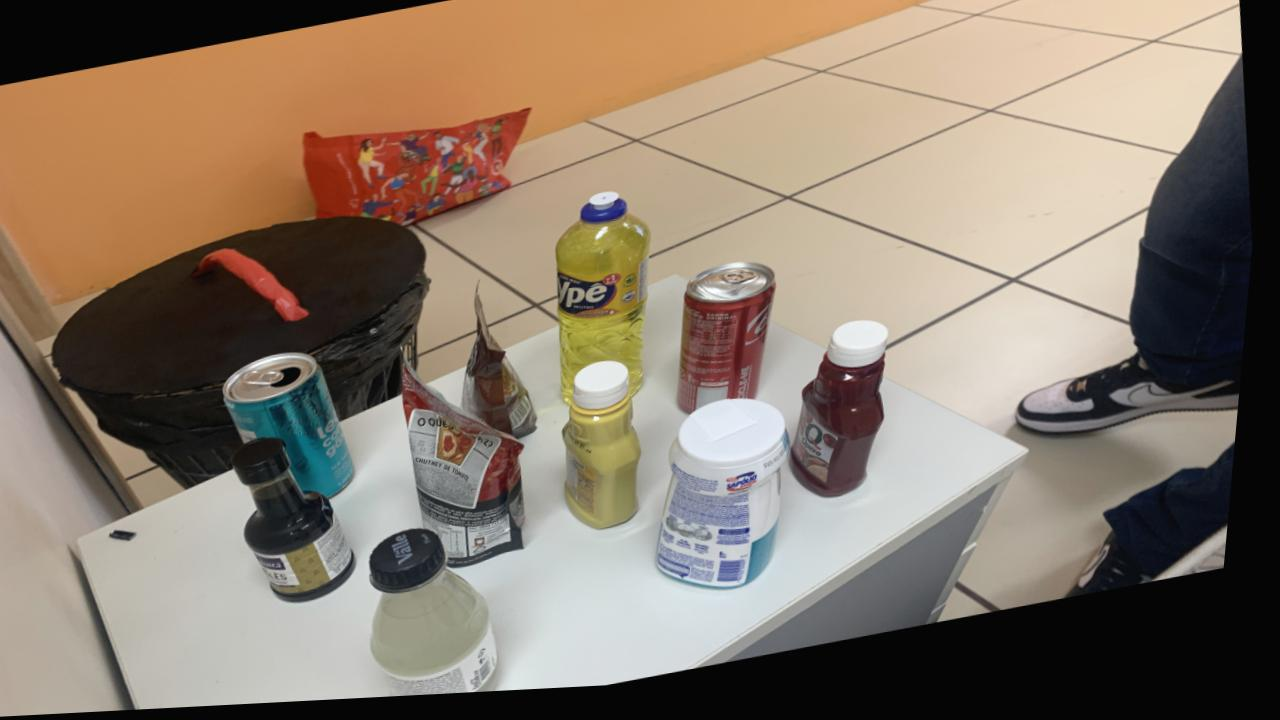Cleaner-Cleanup_Items: (666, 406, 799, 598)
Coffee-Pantry_Items: (468, 294, 545, 444)
Coke-Drinks: (685, 269, 782, 420)
Detergent-Cleanup_Items: (561, 198, 655, 409)
English_Sauce-Pantry_Items: (241, 440, 366, 606)
Ketchup-Pantry_Items: (799, 329, 894, 506)
Mustard-Pantry_Items: (571, 366, 649, 537)
Soda-Drinks: (380, 533, 510, 701)
Tea-Drinks: (229, 355, 362, 500)
Tomato_Sauce-Pantry_Items: (409, 370, 535, 572)
